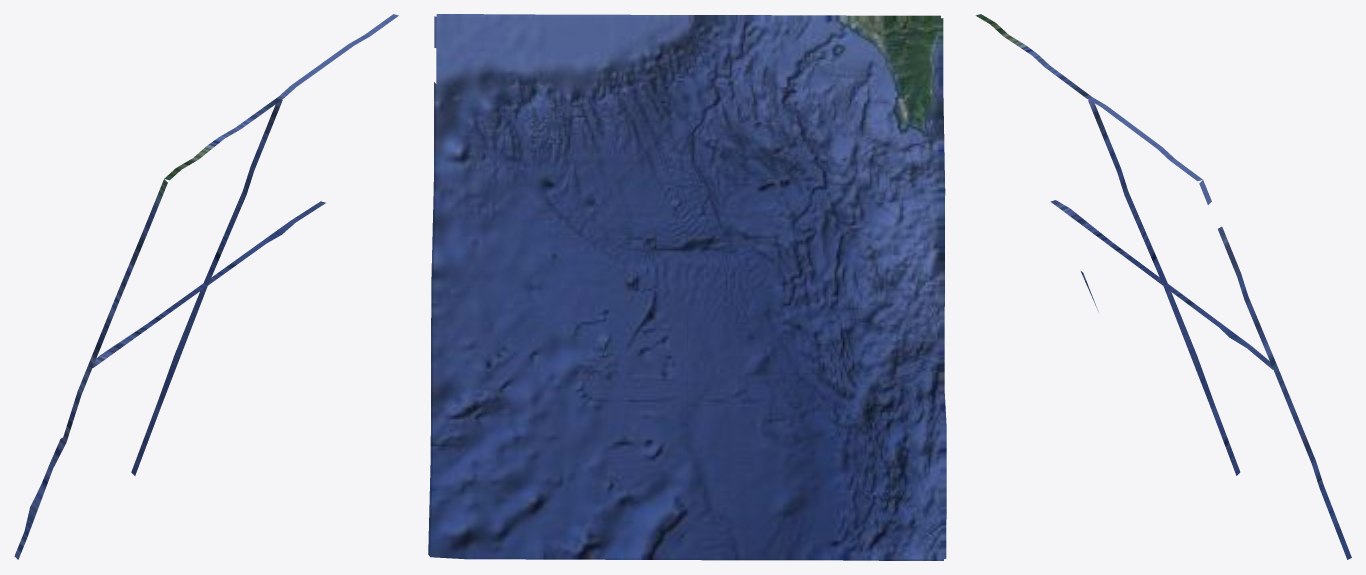
The picture shows the model from 3 angles, left to right: view 1: azimuth 30°, elevation 25°; view 2: azimuth 150°, elevation 25°; view 3: azimuth 270°, elevation 25°; orthographic projection. The views are drawn at different scales.
Size of the model in its own units: 312572 by 296191 by 243202.
1 material, 1 textured.
